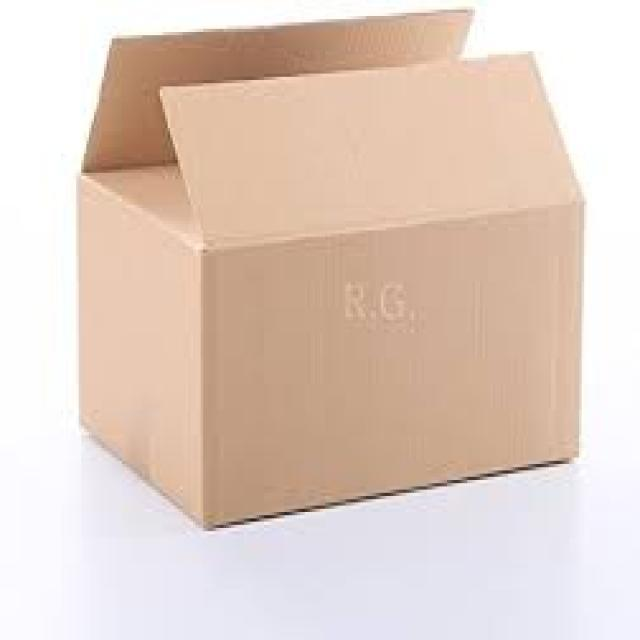Cardboard Paper: (31, 0, 640, 535)
